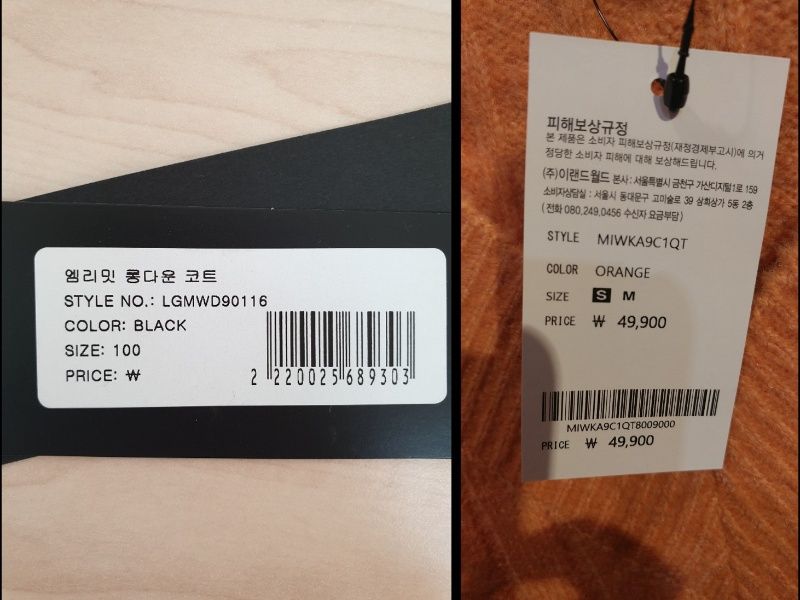tag: (522, 32, 792, 476), (1, 202, 450, 459)
text: (537, 163, 760, 225), (546, 114, 770, 171), (62, 265, 217, 287), (271, 367, 410, 387), (159, 292, 271, 310), (595, 231, 691, 251), (565, 419, 681, 435), (62, 292, 156, 310), (62, 366, 144, 386), (61, 316, 127, 336), (594, 263, 653, 282), (131, 317, 190, 336), (615, 312, 668, 333), (608, 434, 654, 450), (64, 342, 107, 359), (112, 340, 144, 361), (546, 228, 582, 246), (545, 260, 580, 278), (543, 312, 577, 329), (540, 439, 571, 452), (544, 290, 572, 303)
